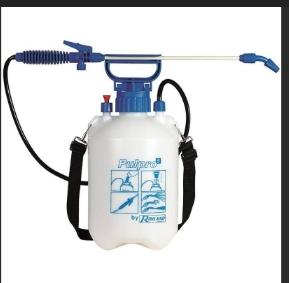PULVERISATEUR: (1, 9, 289, 283)
